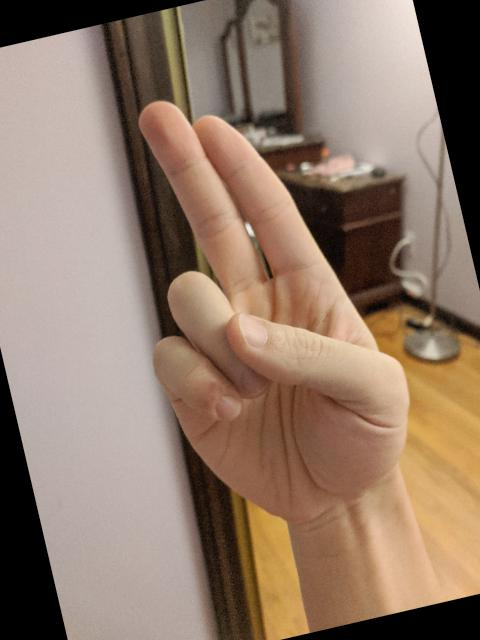U: (88, 56, 438, 554)
